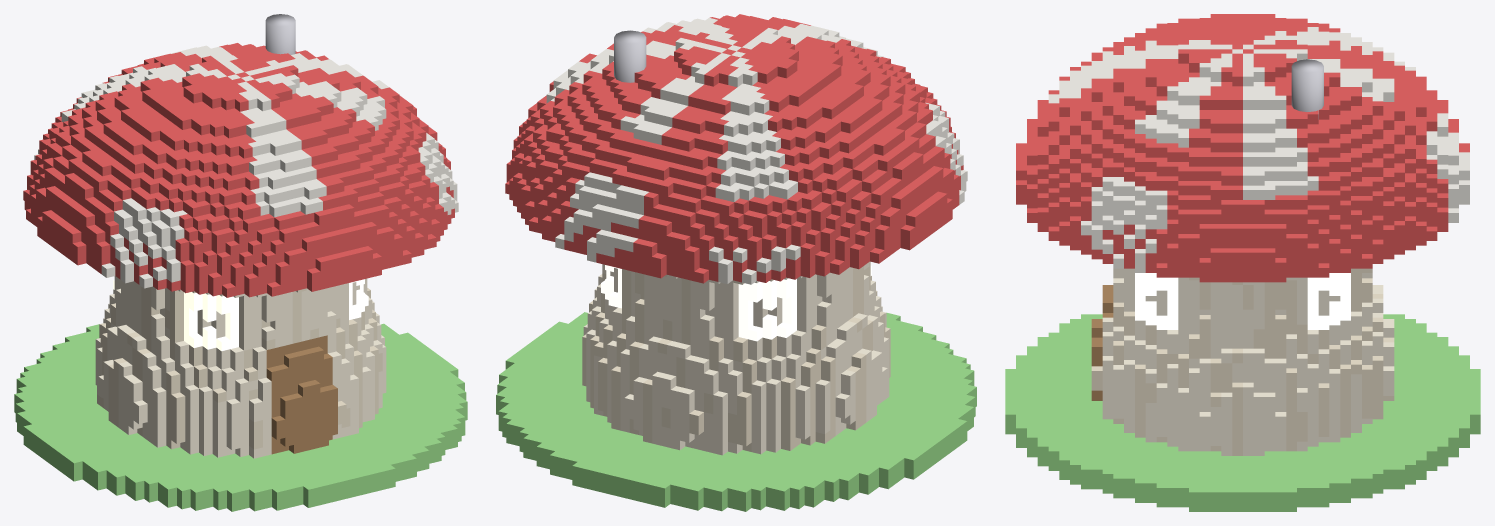
The model's file is E22_Mushroom_House.glb.
3 views of the same model, side by side, from view 1: azimuth 30°, elevation 25°; view 2: azimuth 150°, elevation 25°; view 3: azimuth 270°, elevation 25° (orthographic). The views are drawn at different scales.
Visible parts, largest first — view 1: E22_Mushroom_House_Mesh; view 2: E22_Mushroom_House_Mesh; view 3: E22_Mushroom_House_Mesh.
Boxes of the visible parts, box(x1,y1,x2,y2) form: E22_Mushroom_House_Mesh: box(14, 14, 467, 511); E22_Mushroom_House_Mesh: box(496, 14, 976, 511); E22_Mushroom_House_Mesh: box(1005, 14, 1480, 511).
Bounding box in the file's own units: 4.4 × 3.9 × 4.4.
